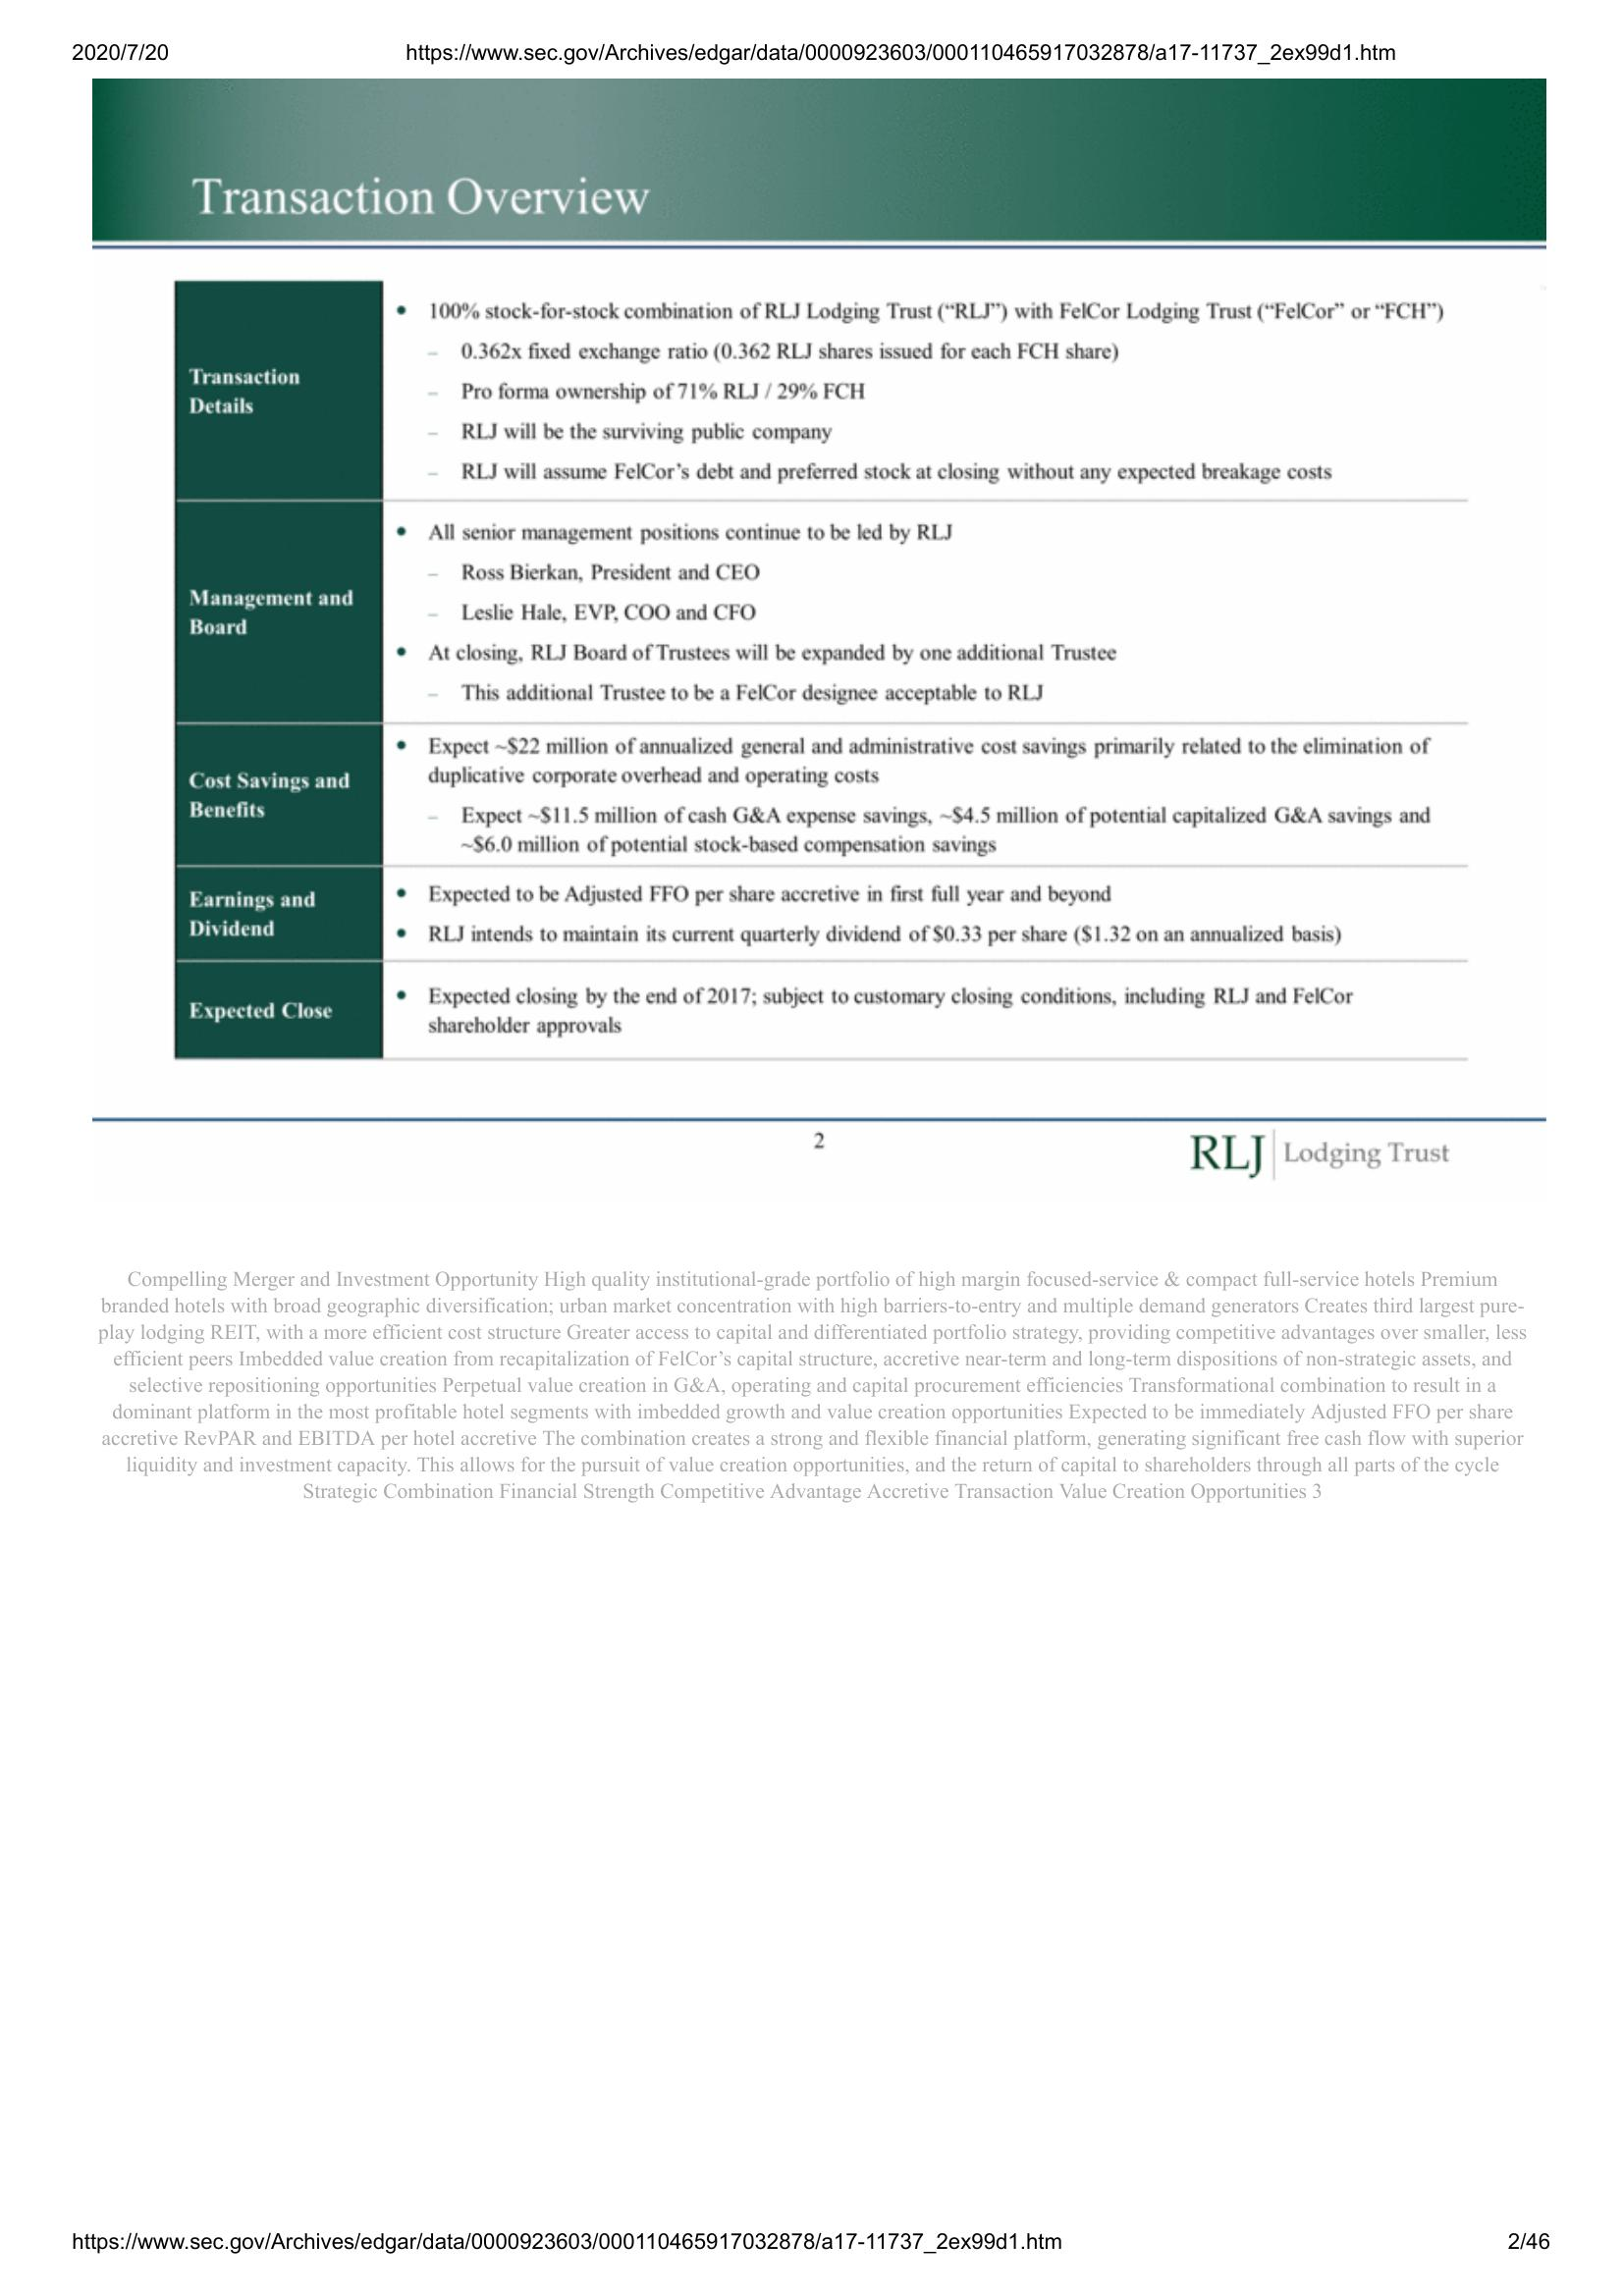table: (172, 279, 1472, 1065)
